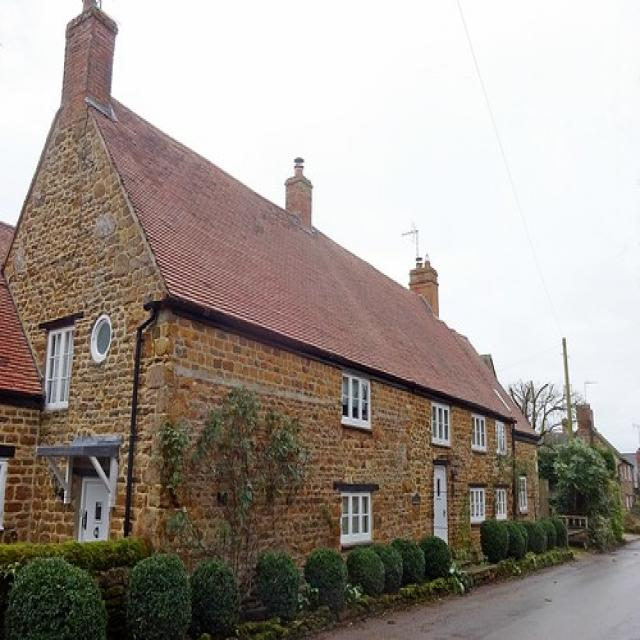Normal_building: (6, 72, 542, 606)
